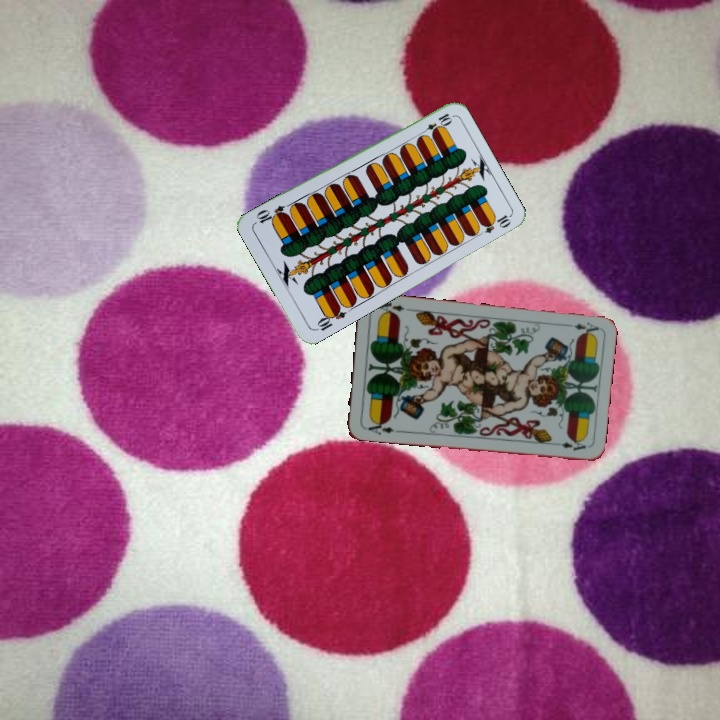E10: (311, 302, 348, 334), (416, 109, 454, 138)
EA: (361, 417, 401, 437), (561, 318, 601, 337)
